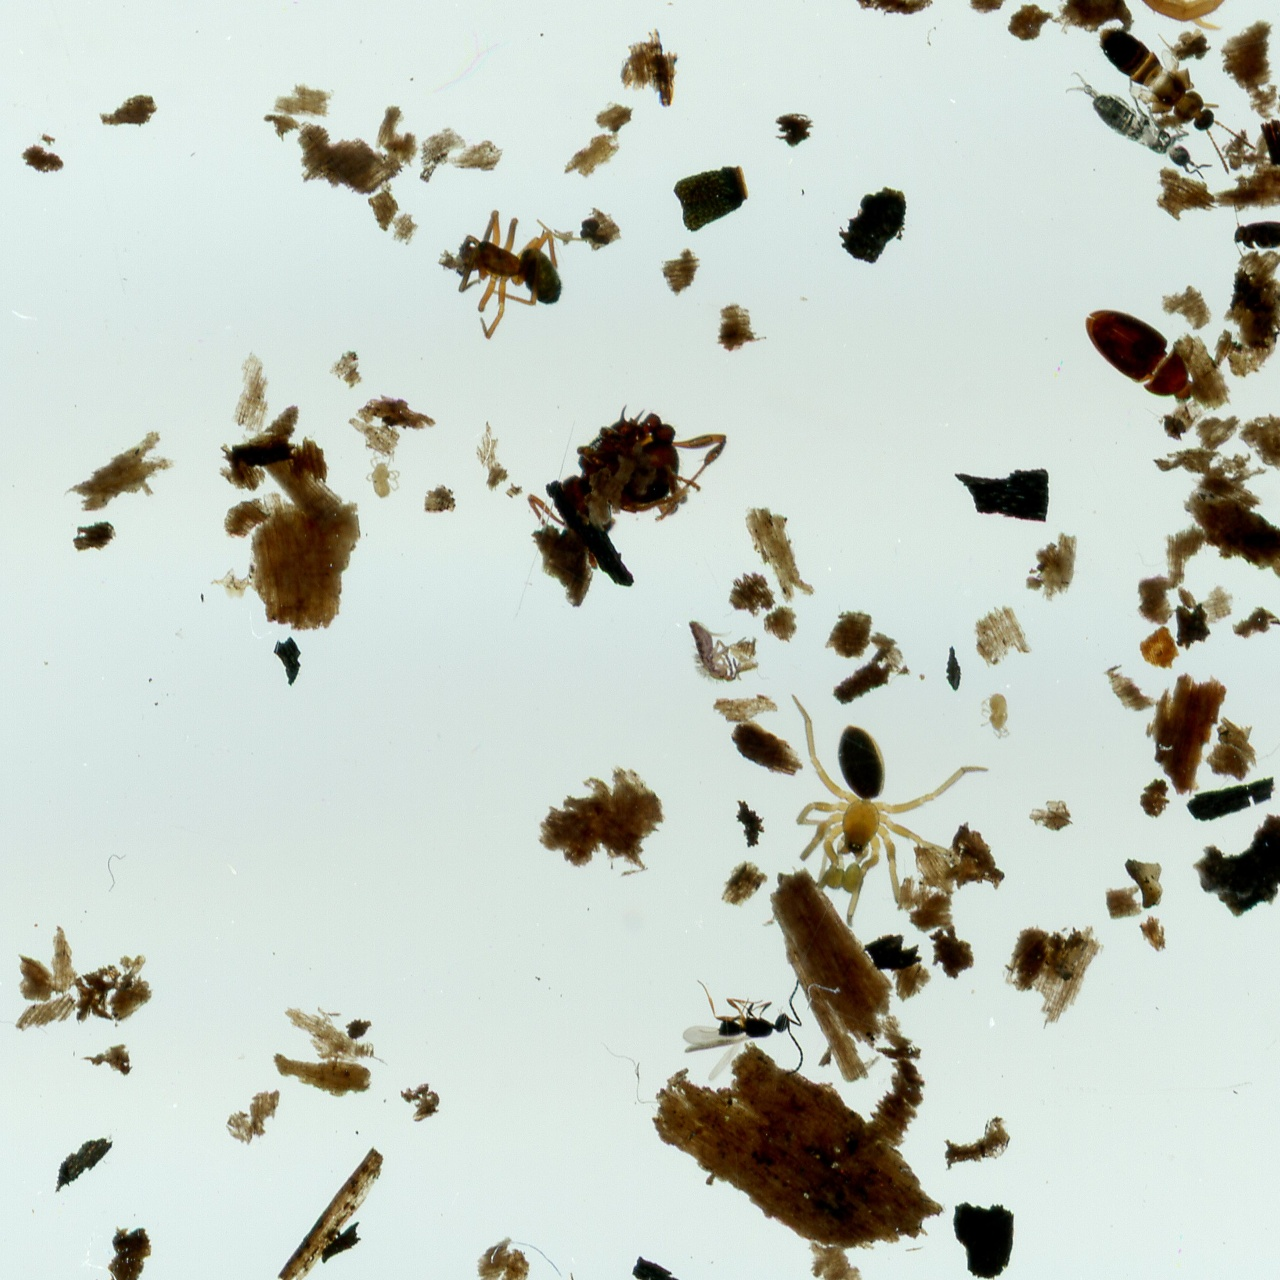arthropod: (783, 694, 991, 934), (1076, 7, 1274, 188), (1053, 53, 1219, 202), (1064, 282, 1219, 432), (568, 398, 730, 525), (455, 205, 571, 342), (682, 977, 806, 1085), (680, 616, 745, 691), (1224, 211, 1280, 264), (365, 448, 401, 501), (979, 692, 1012, 742)
